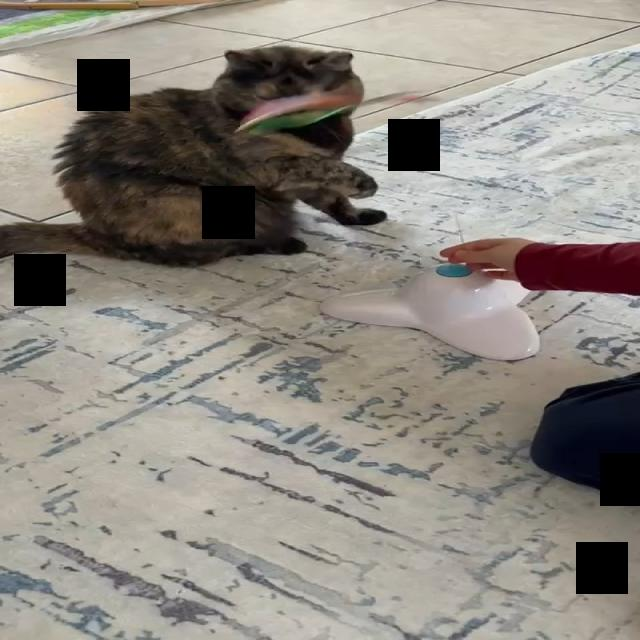authorized: (0, 44, 388, 268)
